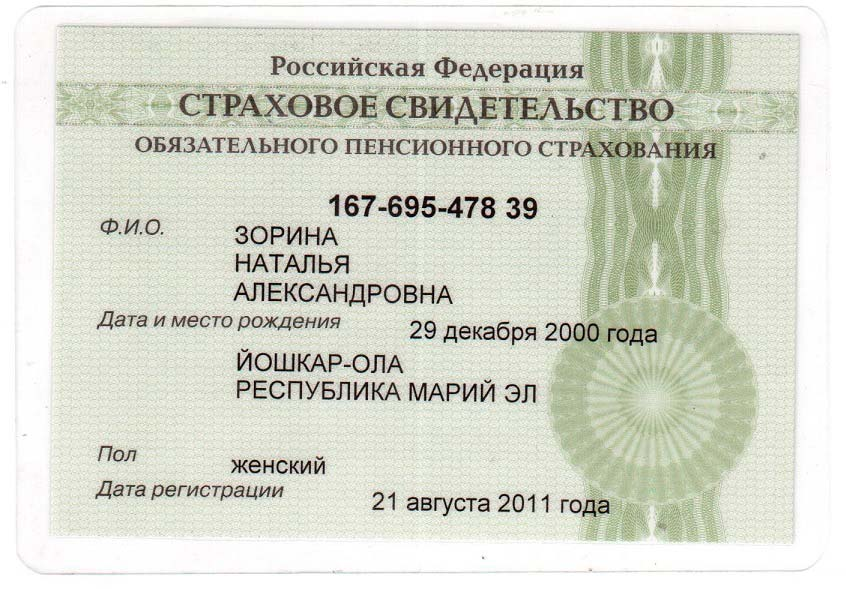text: (225, 343, 546, 409), (364, 484, 618, 521), (398, 315, 662, 350), (319, 185, 546, 223), (227, 278, 464, 308), (228, 250, 359, 277), (226, 454, 332, 481), (228, 223, 342, 247)
